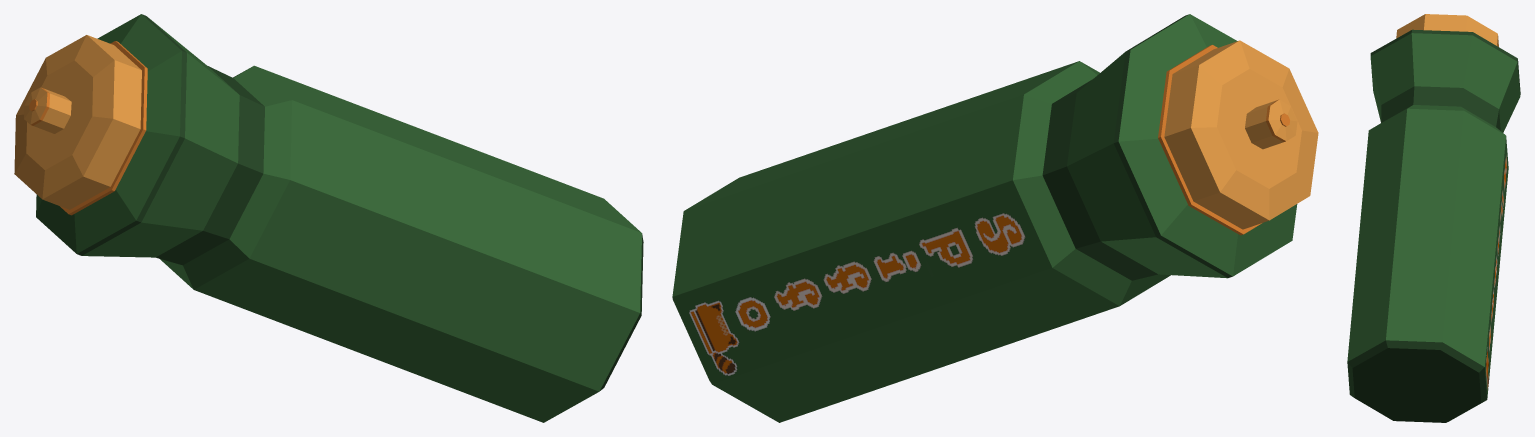
The model's file is GymBottle.fbx.
3 renders of one model, left to right at view 1: azimuth 30°, elevation 25°; view 2: azimuth 150°, elevation 25°; view 3: azimuth 270°, elevation 25°, orthographic. The views are drawn at different scales.
Visible parts, largest first — view 1: ZomboidGymBottle; view 2: ZomboidGymBottle; view 3: ZomboidGymBottle.
Part boxes in pixels (box(x1,y1,x2,y2)): ZomboidGymBottle: box(14, 14, 643, 422); ZomboidGymBottle: box(672, 14, 1318, 422); ZomboidGymBottle: box(1347, 14, 1520, 422).
Bounding box in the file's own units: 0.1798 × 0.133 × 0.0739.
